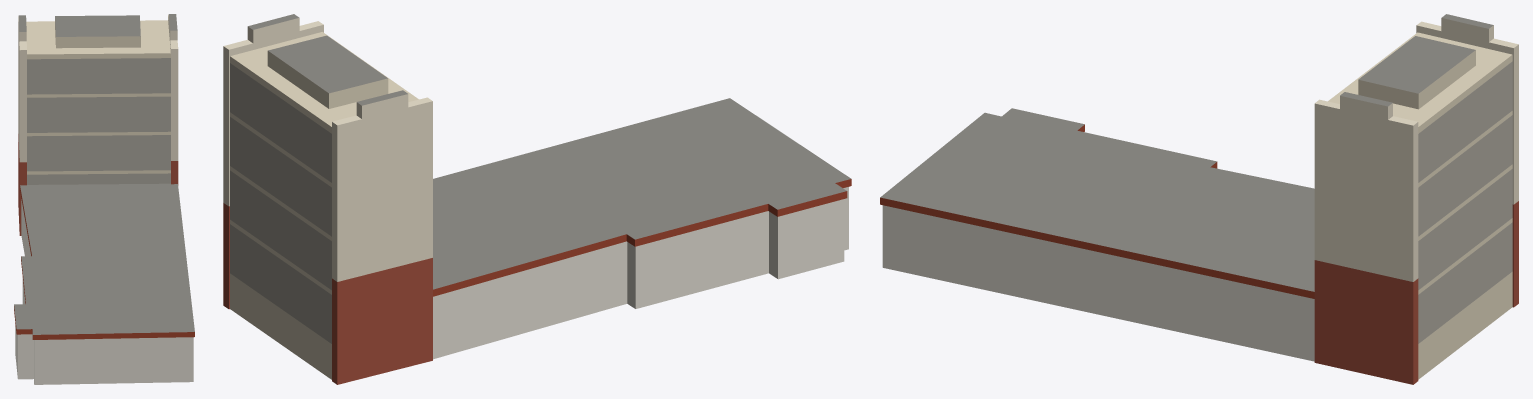
File: el_cortez_hotel_casino_w204346639.glb
3 renders of one model, left to right at view 1: azimuth 30°, elevation 25°; view 2: azimuth 150°, elevation 25°; view 3: azimuth 270°, elevation 25°, orthographic. The views are drawn at different scales.
Visible parts, largest first — view 1: Tower_w204346639; view 2: Tower_w204346639; view 3: Tower_w204346639.
Part boxes in pixels (x1,y1,x2,y2): Tower_w204346639: (14, 14, 194, 384); Tower_w204346639: (223, 14, 851, 384); Tower_w204346639: (880, 14, 1518, 384).
Bounding box in the file's own units: 98.87 × 61 × 129.
